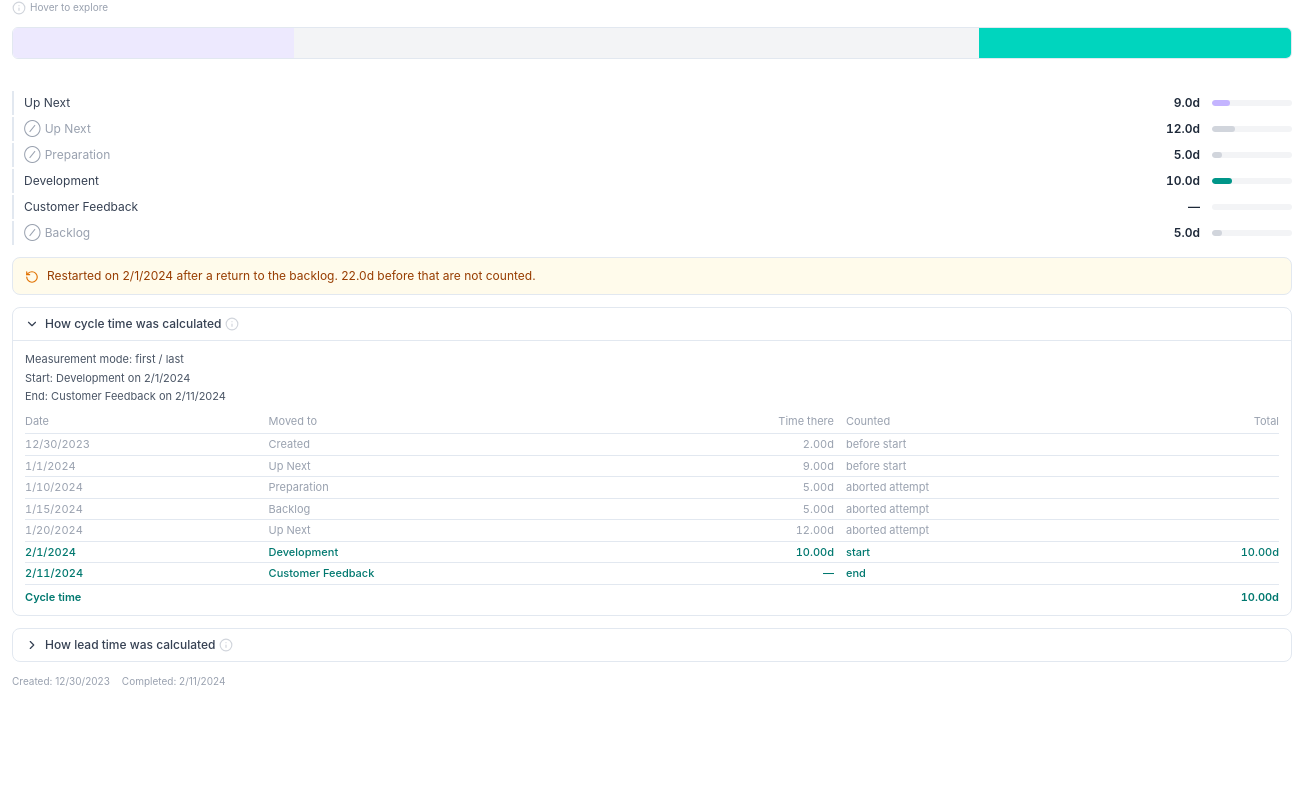
Test: TicketTimeline — calculation tables (#145, #146) › lead: starts at creation, ignores the restart, totals to the lead time
The width and height of the screenshot is (1292, 800).
Click the button "How lead time was calculated" at (120, 645), box [25, 637, 216, 653]
(page scrolled)
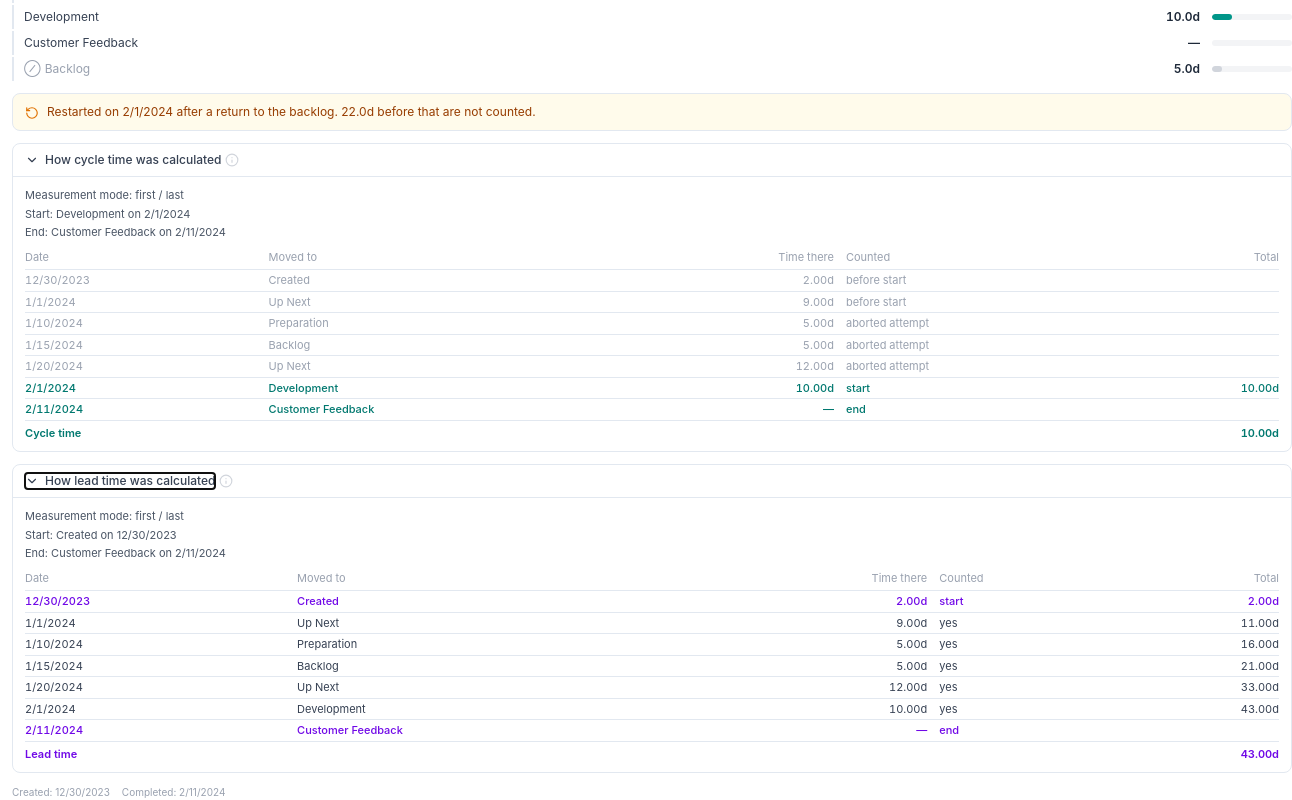
Now the row "12/30/2023 Created 2.00d start 2.00d" is shown, box [25, 590, 1279, 612]
Now the row "Lead time 43.00d" is shown, box [25, 741, 1279, 762]
